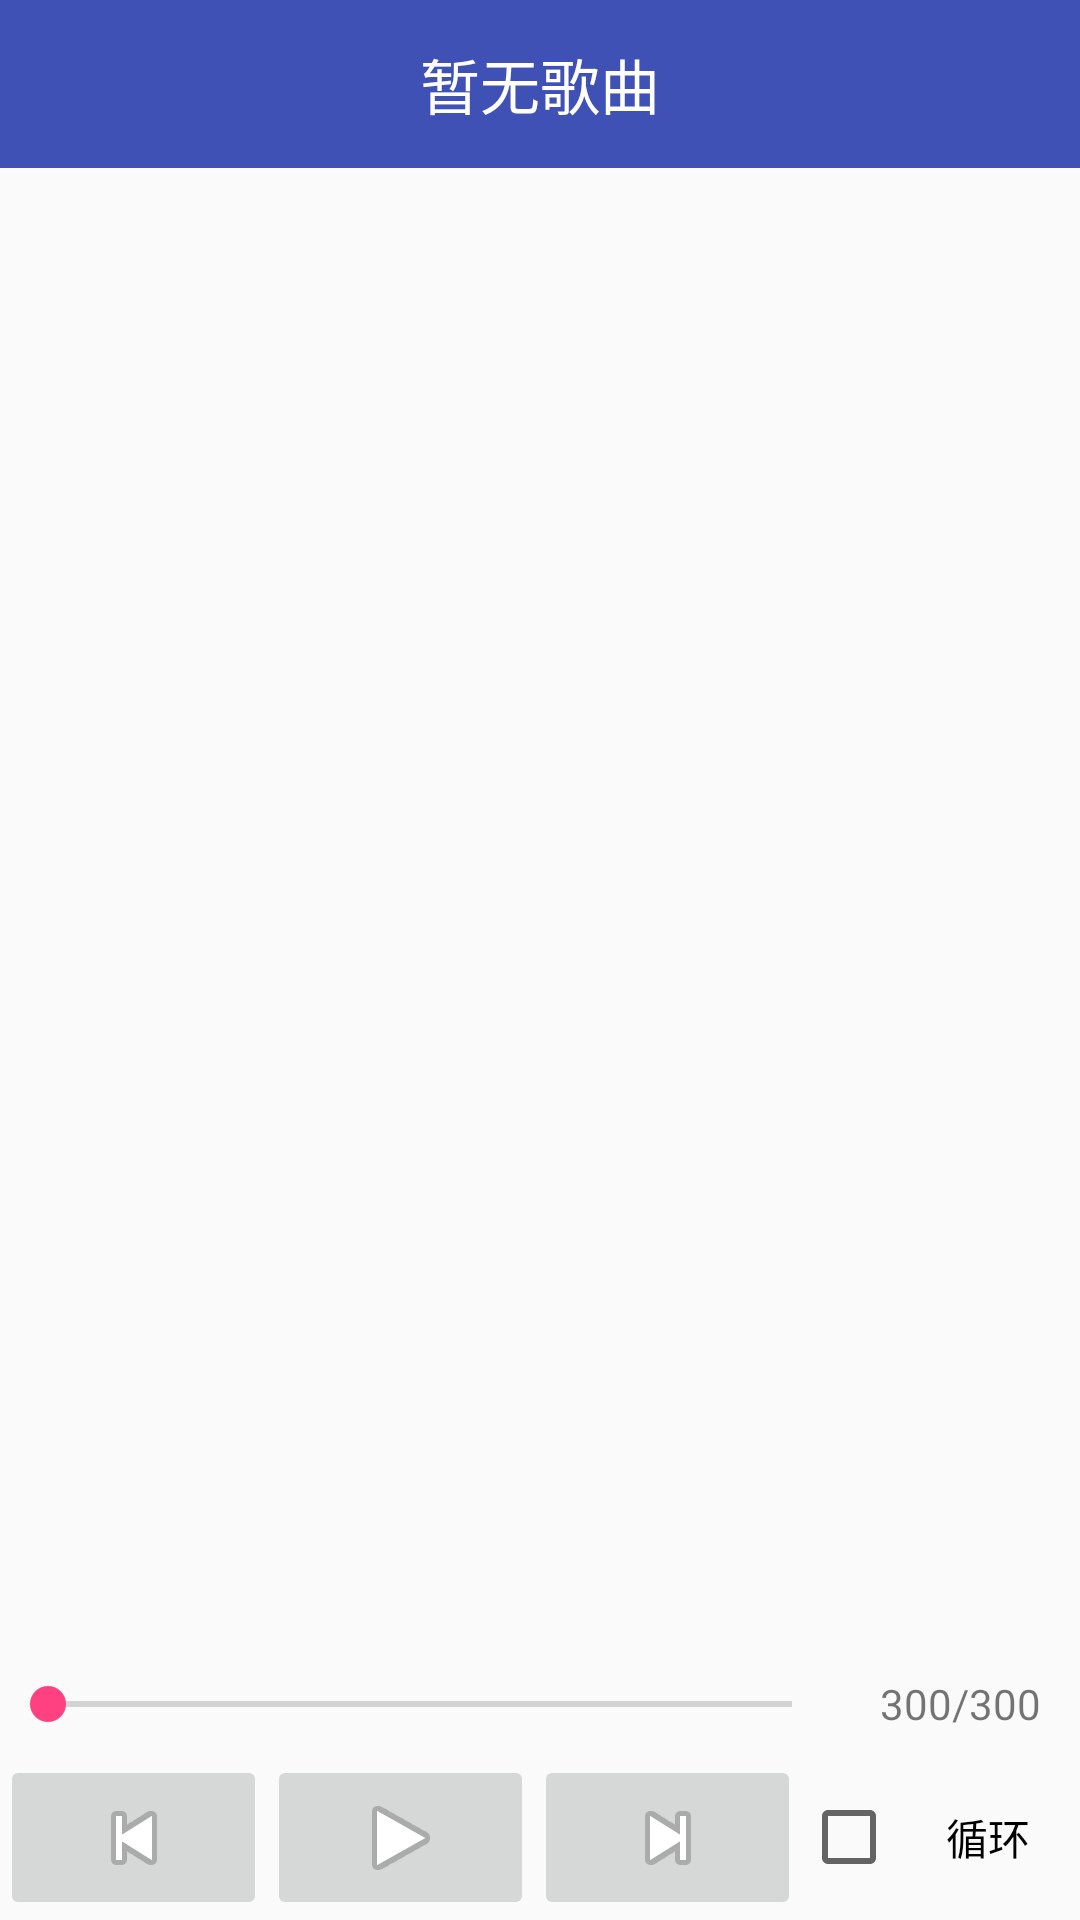

Point at icon controls on the screen. Image size 1080×1920, points as [x,y].
next: [667,1837]
play: [400,1837]
previous: [133,1837]
